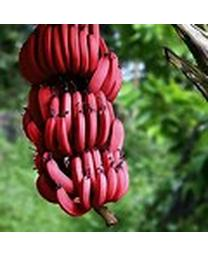banana: (17, 25, 129, 224)
